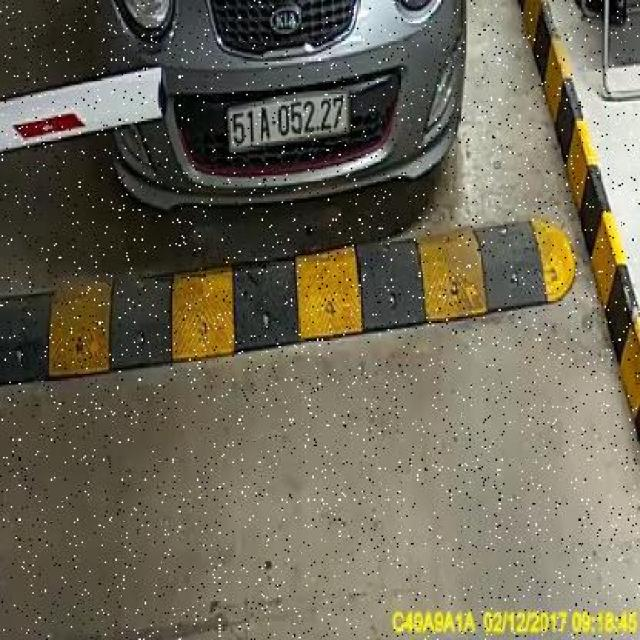number_plate: (228, 90, 350, 148)
